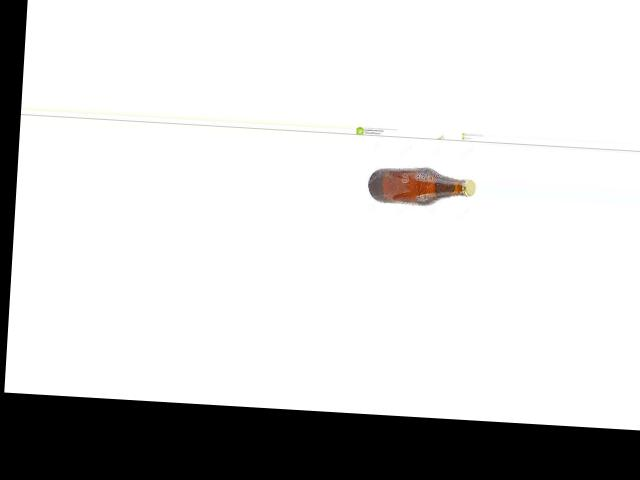beer: (368, 164, 476, 208)
